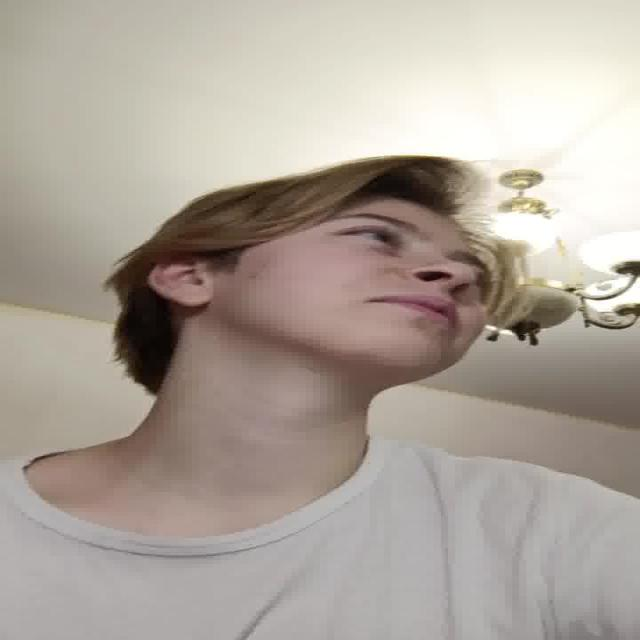earlobe: (168, 290, 216, 308)
eye: (334, 227, 401, 247)
nose: (410, 278, 464, 299)
wholeear: (144, 261, 216, 307)
